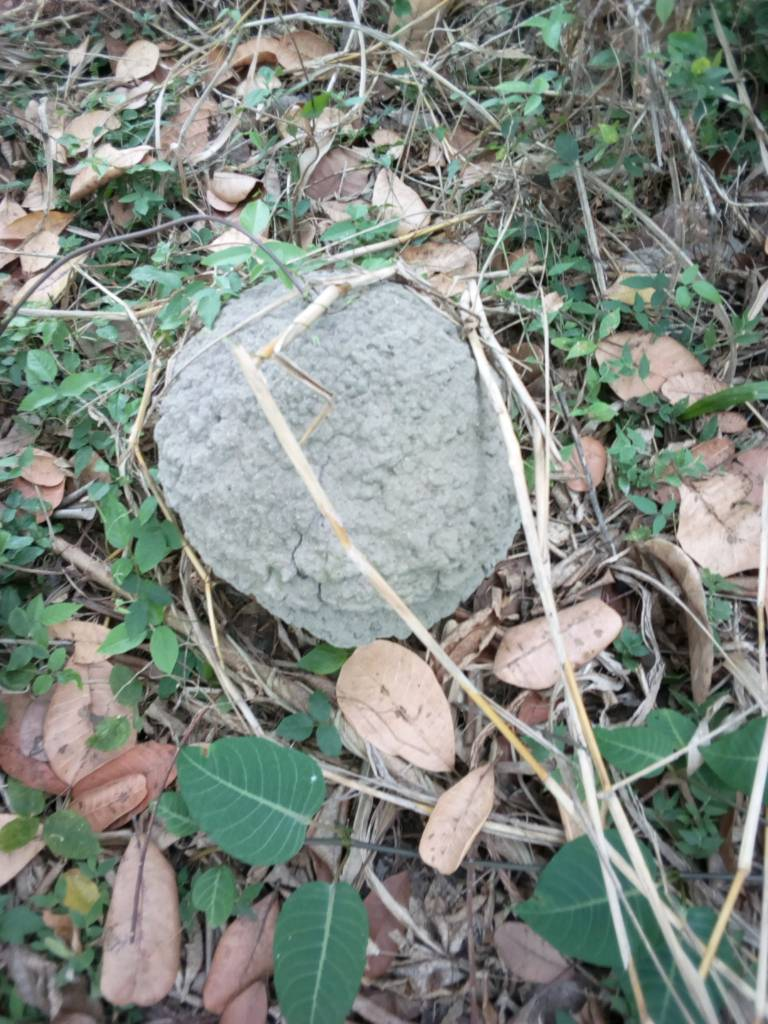Termites: (194, 313, 494, 597)
